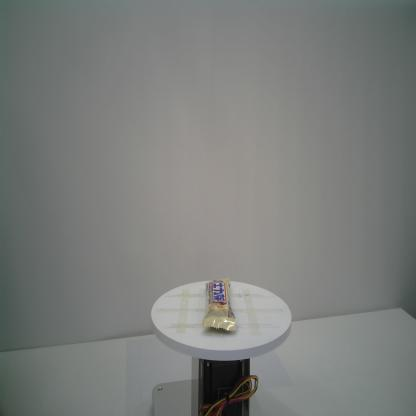Chocolate: (201, 275, 237, 336)
